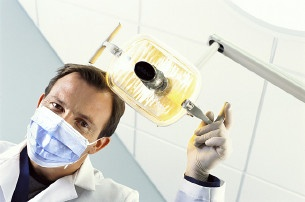Mask: (25, 90, 104, 170)
